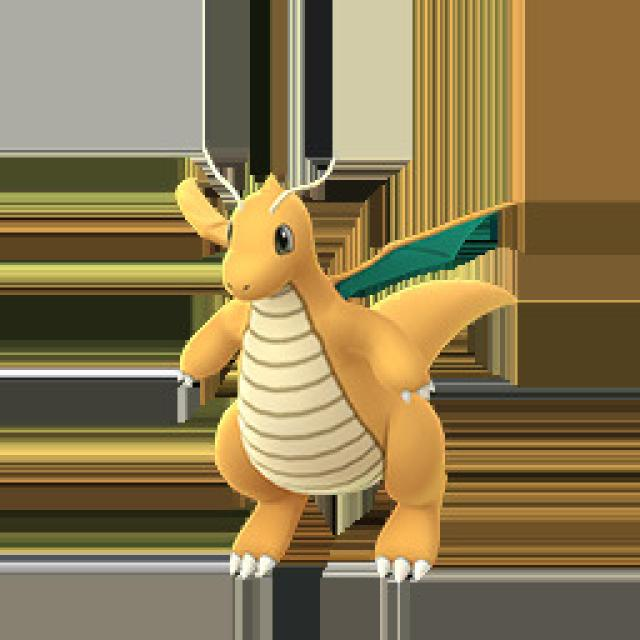Dragonite: (187, 178, 447, 586)
